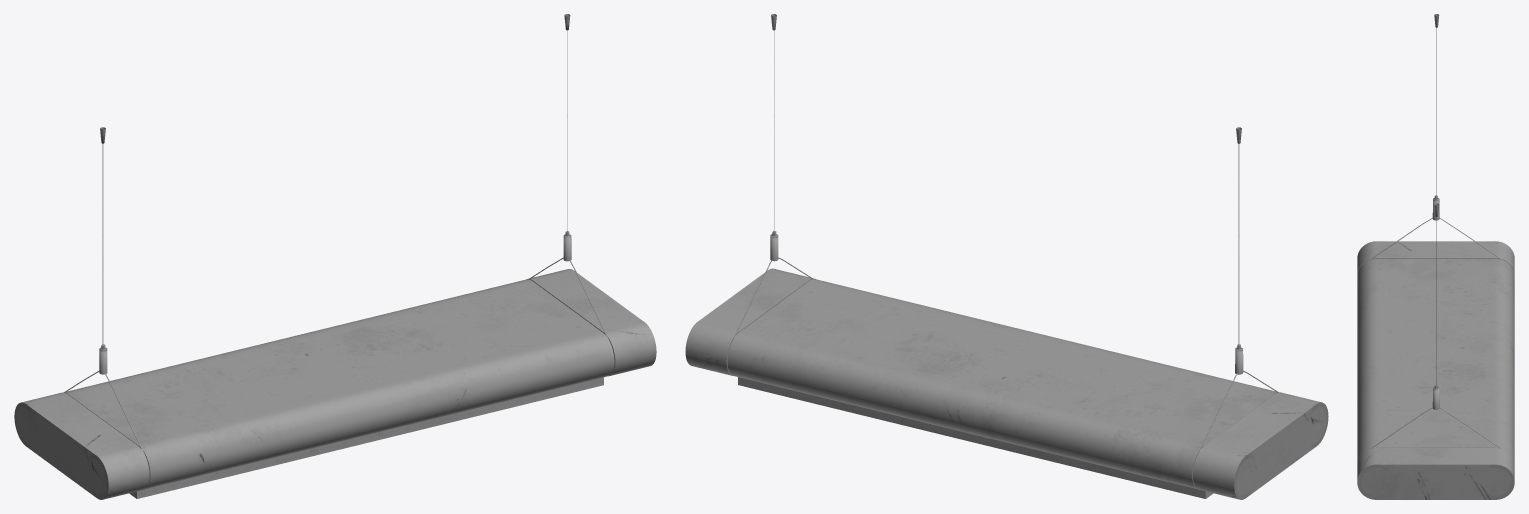
File: Prop_BoxOverheadLamp.fbx
The picture shows the model from 3 angles, left to right: view 1: azimuth 30°, elevation 25°; view 2: azimuth 150°, elevation 25°; view 3: azimuth 270°, elevation 25°; orthographic projection. The views are drawn at different scales.
Parts seen in each view (by area): view 1: Prop_BoxOverheadLamp; view 2: Prop_BoxOverheadLamp; view 3: Prop_BoxOverheadLamp.
Boxes of the visible parts, x1,y1,x2,y2 form: Prop_BoxOverheadLamp: (14, 14, 656, 499); Prop_BoxOverheadLamp: (685, 14, 1328, 499); Prop_BoxOverheadLamp: (1357, 14, 1514, 499).
Size of the model in its own units: 69.67 by 41.92 by 20.76.
